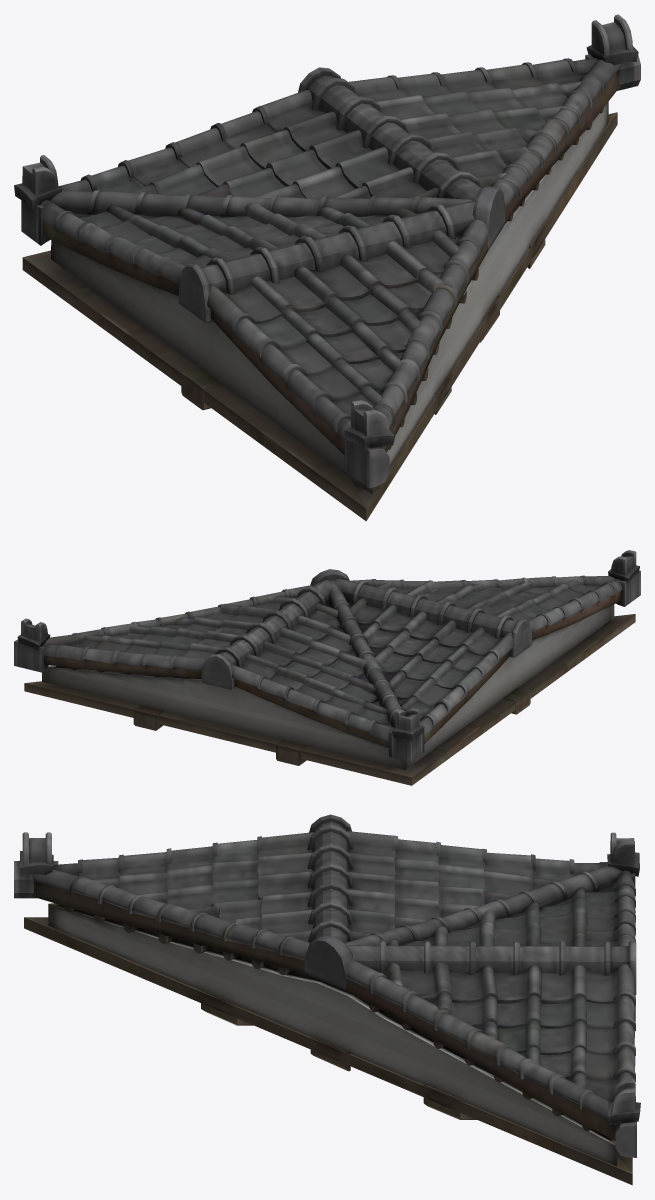
File: Architecture_JapaneseStyle_RoofTriangleB_251c28.glb
3 renders of one model, top to bottom at view 1: azimuth 30°, elevation 25°; view 2: azimuth 150°, elevation 25°; view 3: azimuth 270°, elevation 25°, orthographic. The views are drawn at different scales.
Size of the model in its own units: 4.11 by 0.9203 by 4.11.
Materials: 1 (1 with a texture image).
